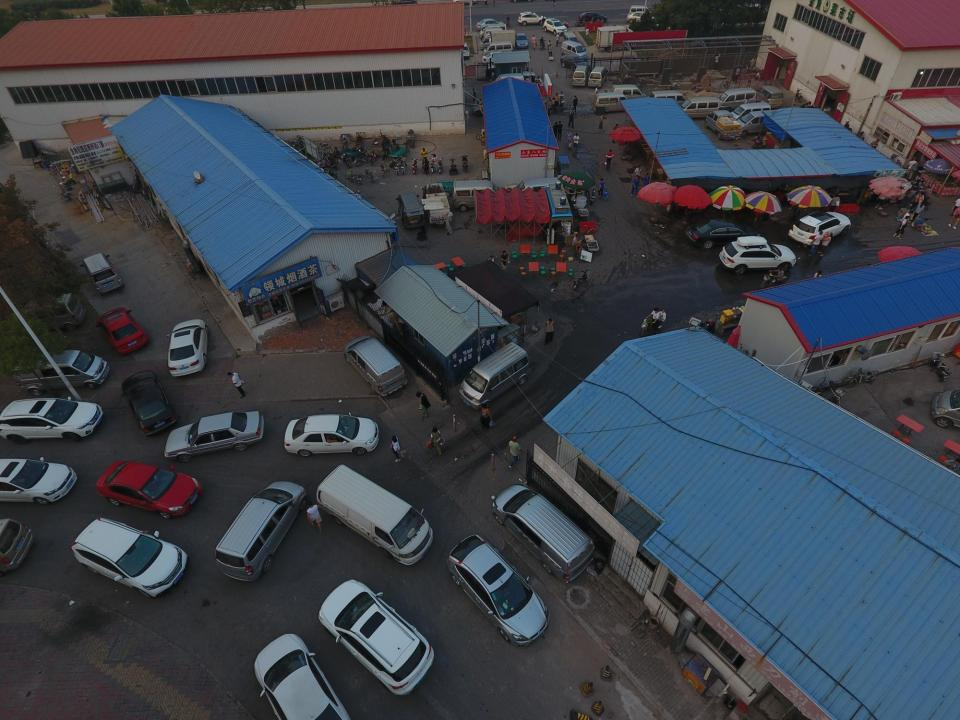car: (318, 579, 435, 697), (446, 534, 550, 648), (70, 516, 190, 598), (252, 632, 354, 720), (96, 460, 202, 520), (164, 410, 266, 463), (1, 397, 104, 443), (284, 412, 380, 457), (120, 370, 180, 437), (1, 457, 77, 507), (718, 236, 796, 275), (96, 308, 150, 355), (166, 319, 209, 378), (788, 210, 852, 248), (685, 218, 761, 250), (560, 53, 588, 71), (517, 10, 547, 26), (626, 10, 656, 25), (542, 18, 567, 36), (481, 51, 511, 65), (579, 11, 607, 25)
truck: (420, 182, 452, 225), (704, 109, 744, 140), (595, 26, 638, 52), (480, 29, 516, 50)
van: (316, 463, 434, 566), (491, 484, 596, 582), (214, 480, 310, 583), (458, 342, 532, 411), (11, 349, 109, 396), (342, 334, 408, 396), (10, 292, 87, 340), (0, 517, 34, 575), (79, 252, 124, 295), (452, 179, 502, 212), (931, 387, 960, 428), (395, 191, 425, 230), (732, 110, 774, 137), (510, 177, 558, 199), (678, 97, 720, 120), (717, 87, 757, 111), (592, 92, 634, 114), (729, 101, 771, 123), (491, 71, 536, 88), (648, 90, 688, 109), (754, 84, 784, 109), (610, 84, 646, 102), (560, 40, 588, 62), (483, 39, 513, 56), (588, 66, 608, 88), (476, 17, 507, 31), (478, 26, 506, 40), (572, 65, 588, 86), (562, 30, 580, 47), (484, 27, 507, 39), (514, 31, 529, 48), (628, 6, 651, 16)
